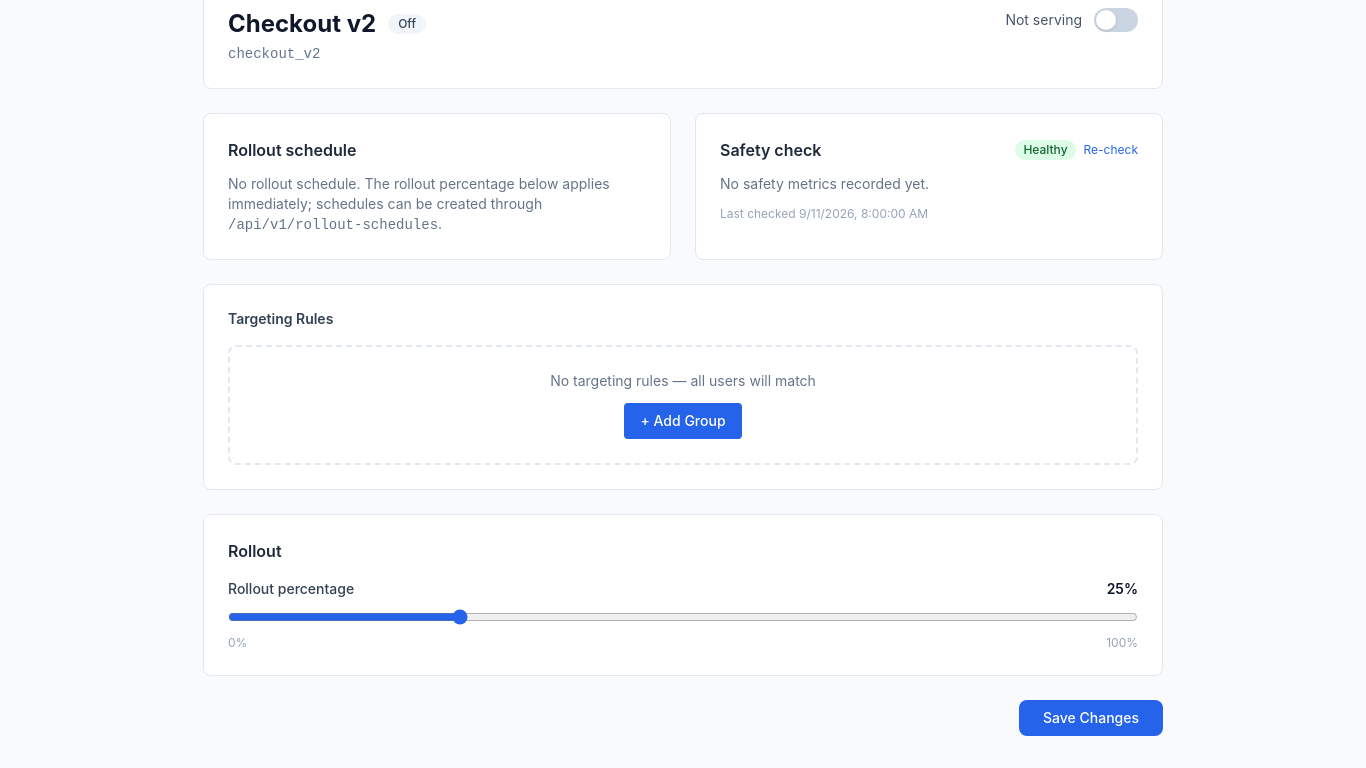
Test: a save the rules stop › any other failure goes to the save-error alert, which takes focus
This screenshot has width=1366, height=768.
(page scrolled)
Click the button with test id "save-flag". click: (1091, 718)
box: [1019,700,1163,736]
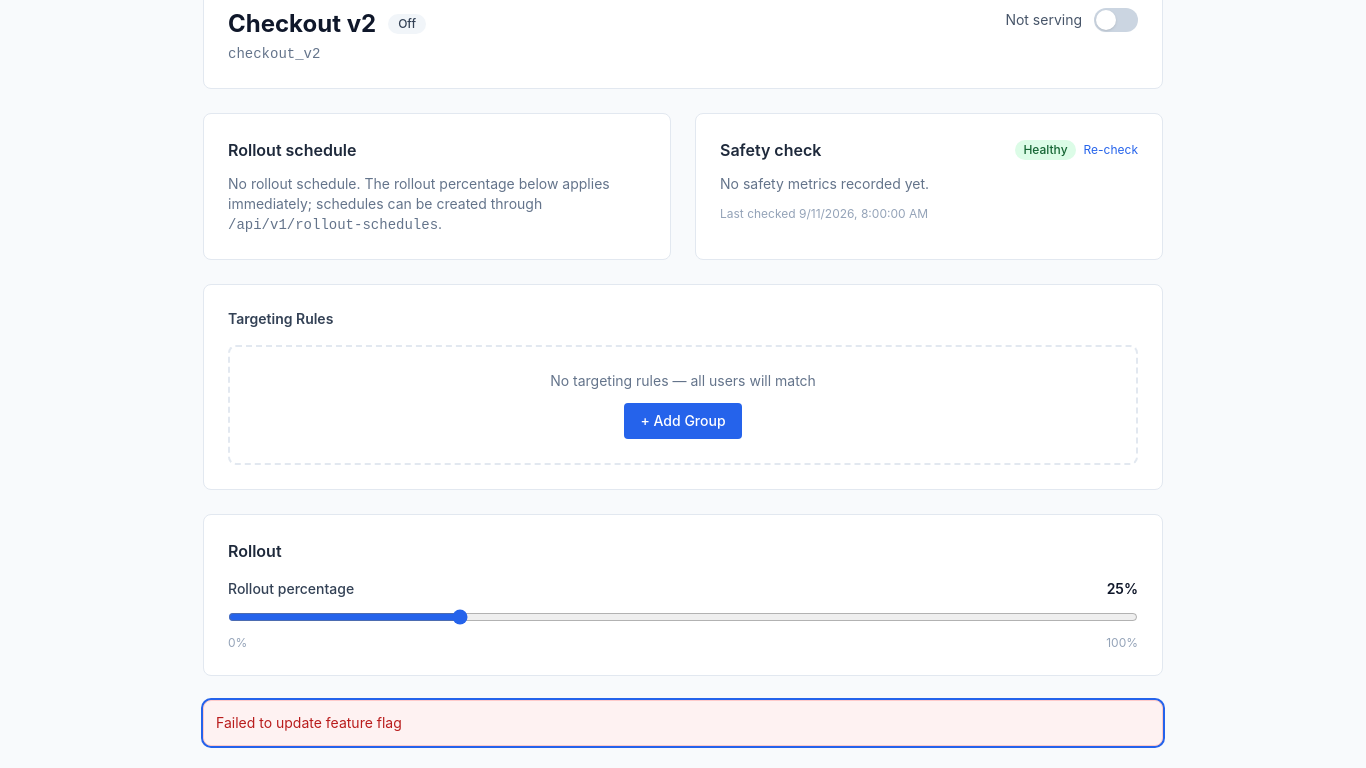
Check: the message with test id "save-error" reads "Failed to update feature flag", box [216,714,402,731]
